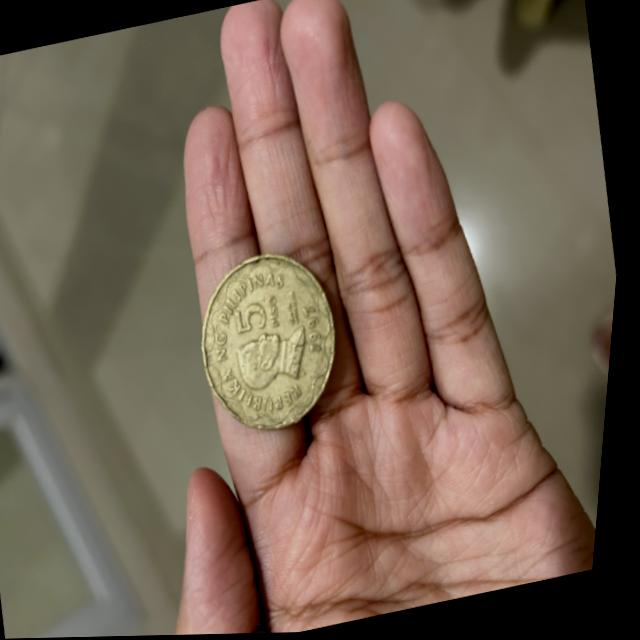5_Old_Front: (232, 284, 298, 342)
